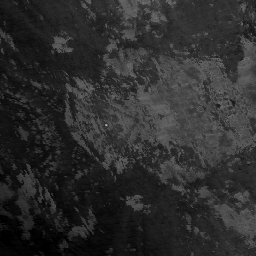Target: (103, 122, 108, 126)
